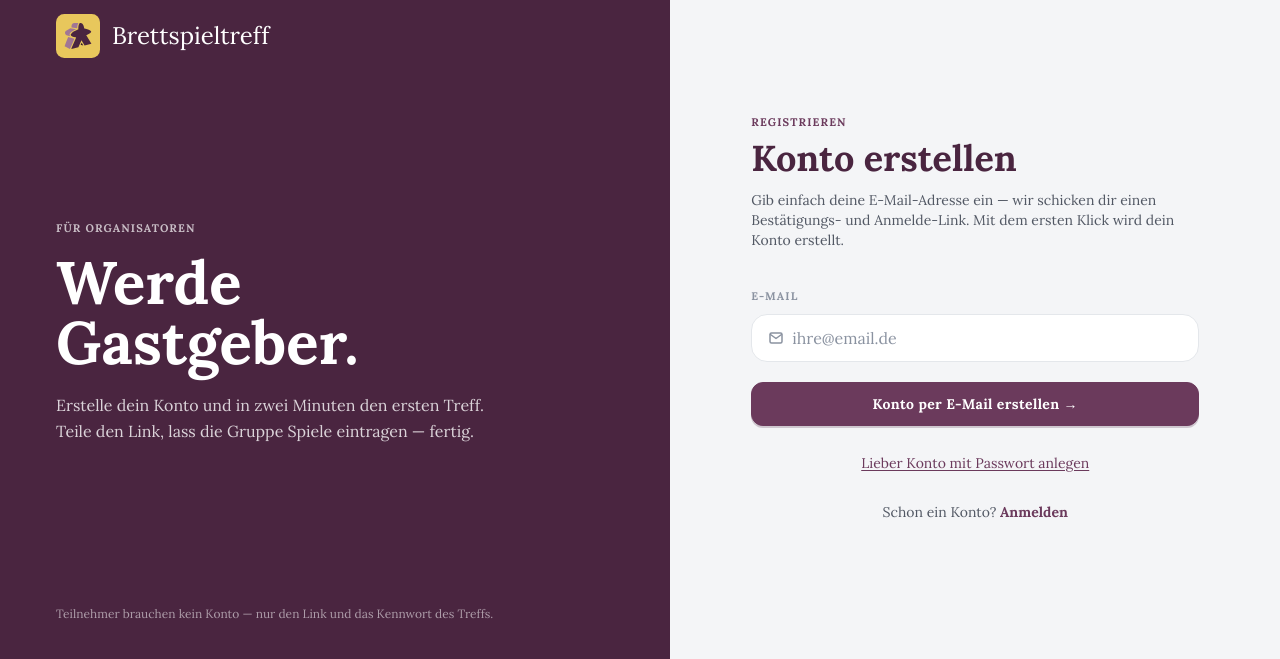
Scenario: RegisterPage › shows error message on failed registration
Click the button "Lieber Konto mit Passwort anlegen" at (975, 463), box x1=861 y1=453 x2=1089 y2=473
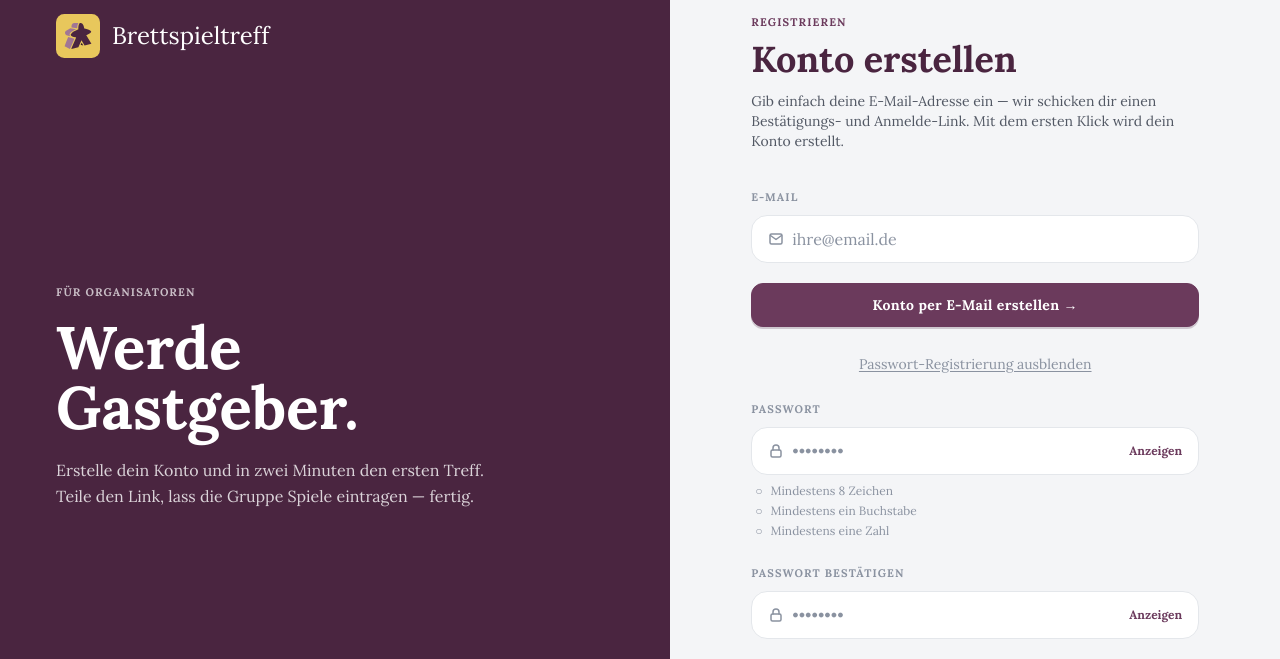
Type "existing@example.com" into the field labelled "E-Mail" at (987, 238), box x1=792 y1=226 x2=1182 y2=250
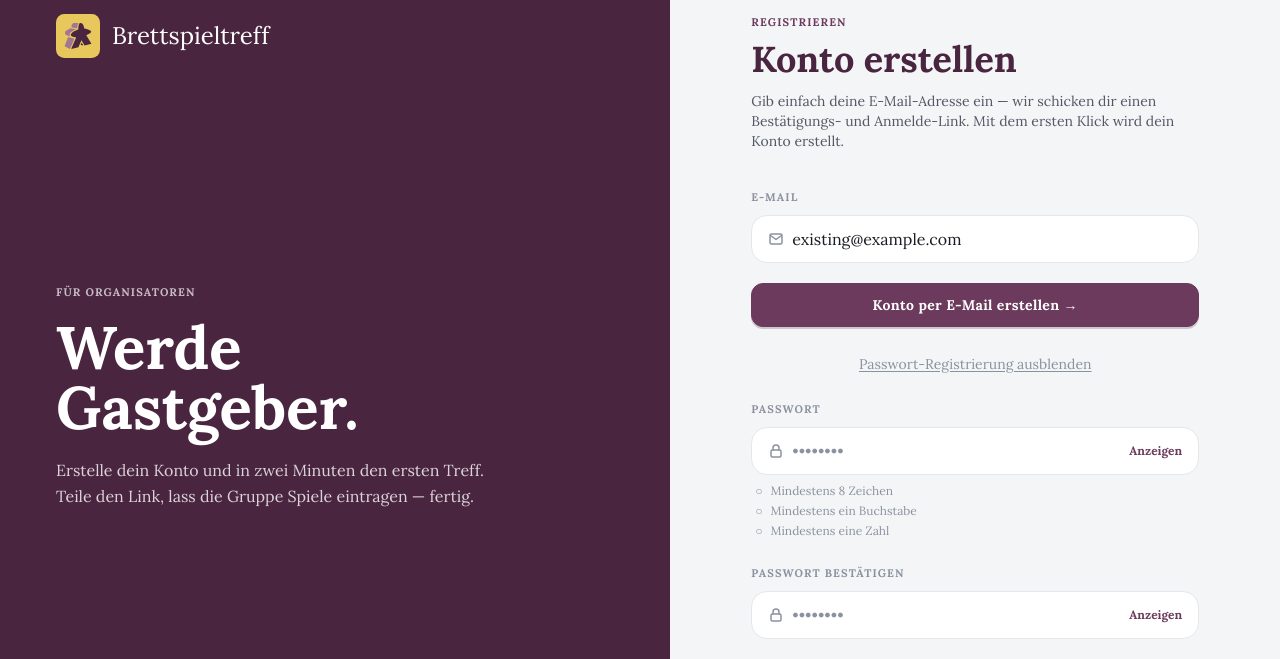
Type "password123" into the password field labelled "Passwort" at (957, 450), box x1=792 y1=438 x2=1121 y2=462
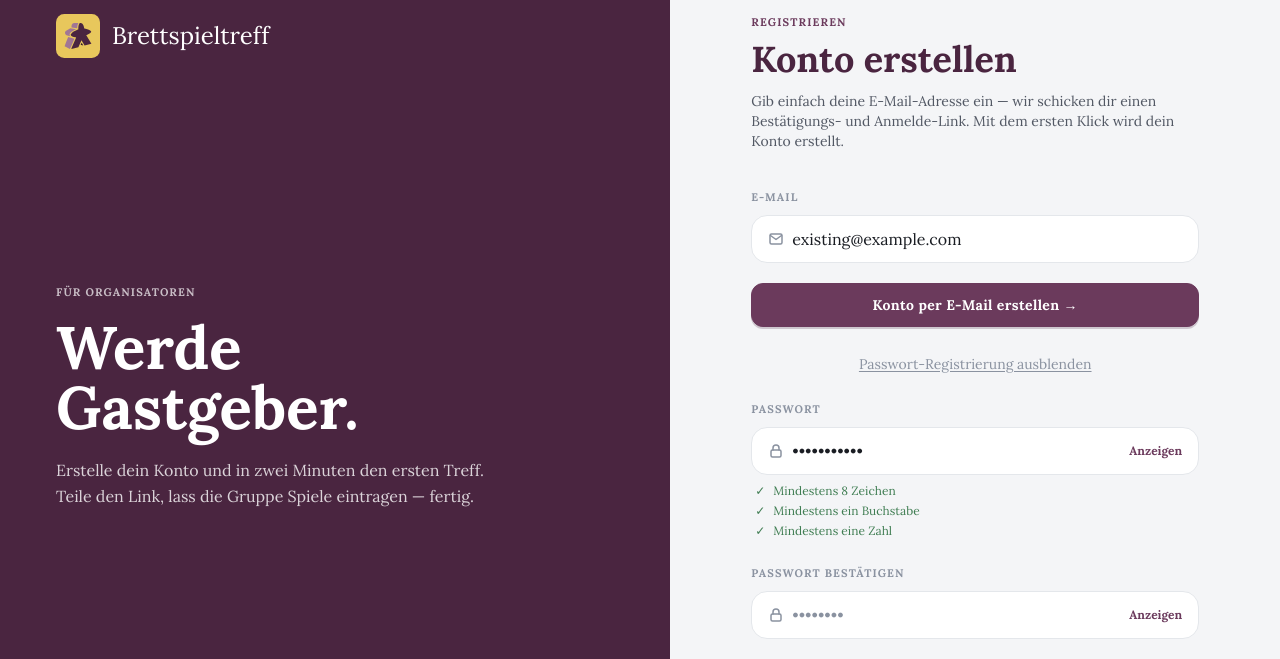
Type "password123" into the password field labelled "Passwort bestätigen" at (957, 614), box x1=792 y1=602 x2=1121 y2=626
(page scrolled)
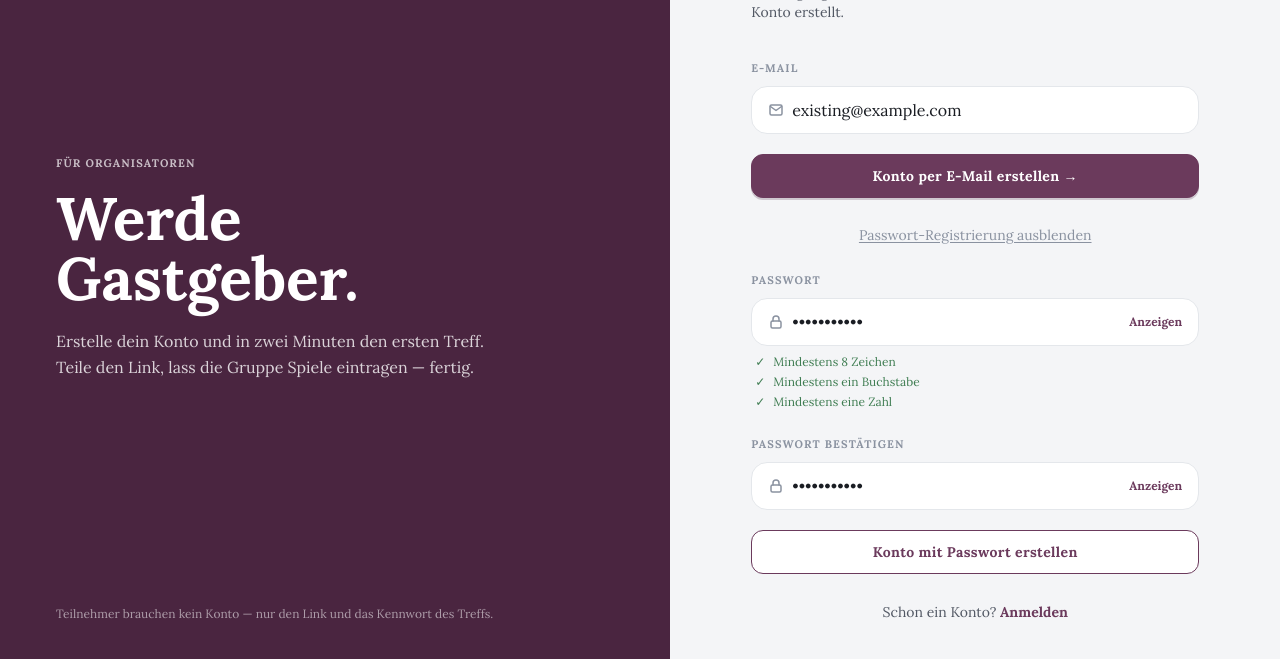
Click the button "Konto mit Passwort erstellen" at (975, 552), box x1=751 y1=530 x2=1199 y2=574
(page scrolled)
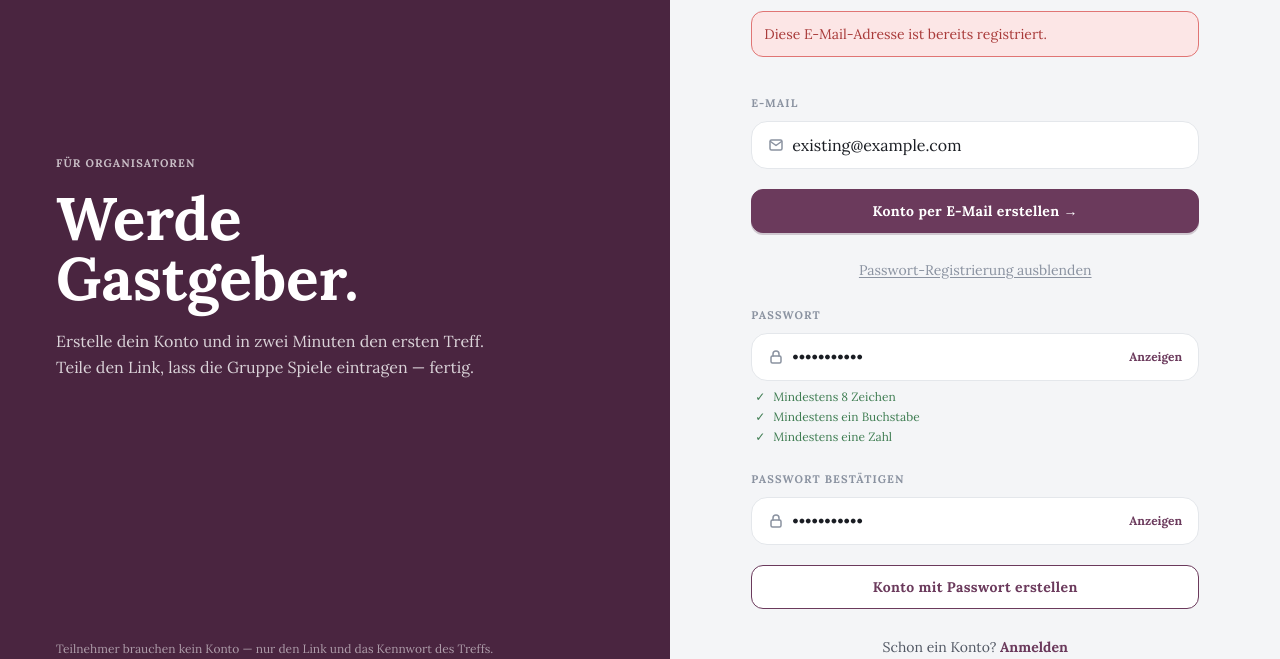
Result: the text "Diese E-Mail-Adresse ist bereits registriert." is shown at x1=751 y1=10 x2=1199 y2=56
